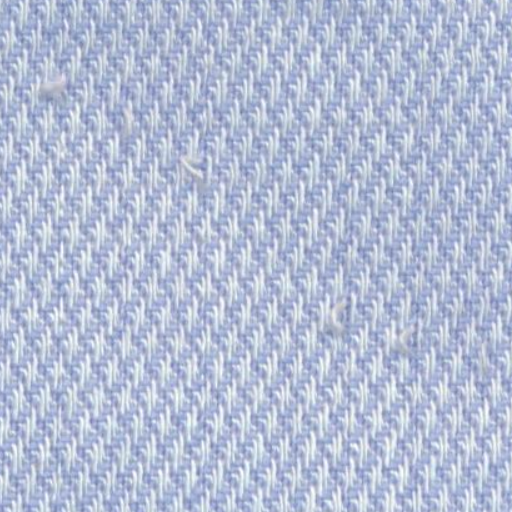DuanSha: (300, 270, 458, 370), (149, 131, 238, 202), (28, 54, 90, 122)
